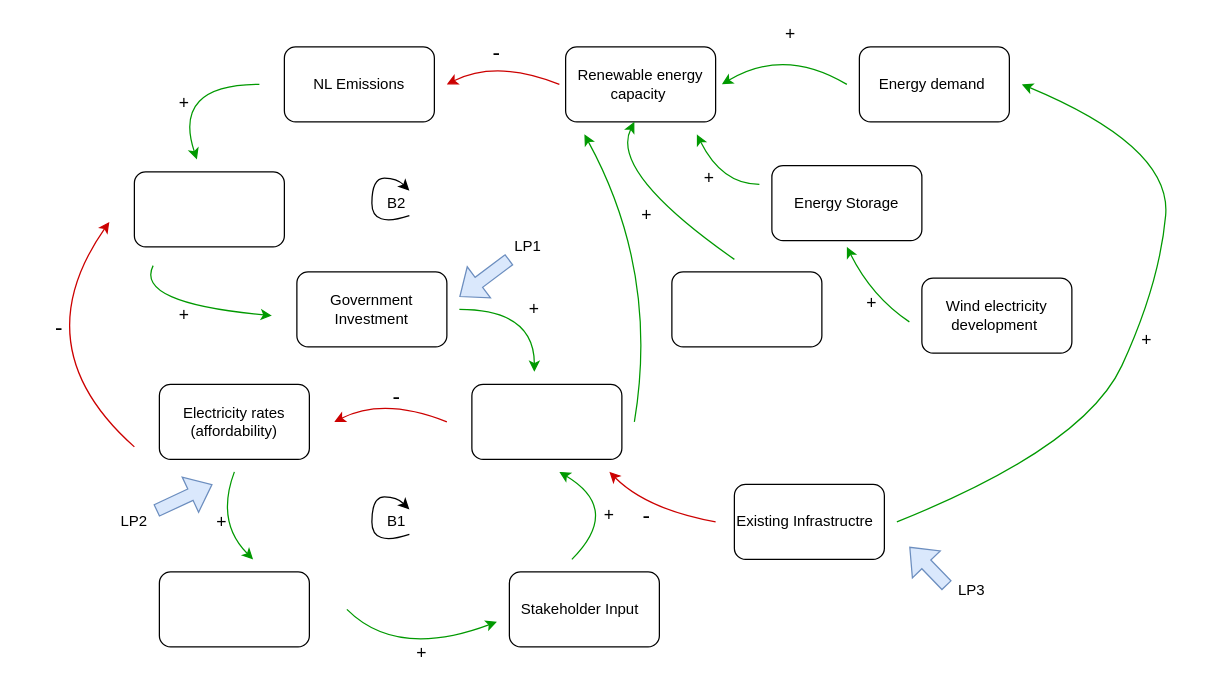
The diagram is 1205 pixels wide and 693 high, and some of its shapes have lost their labels. Each missing label, with the box of its shape:
Hydroelectric development: (671, 271, 822, 347)
Political willingness: (133, 171, 284, 247)
Project Spending: (471, 383, 622, 459)
Public trust: (158, 571, 309, 647)
